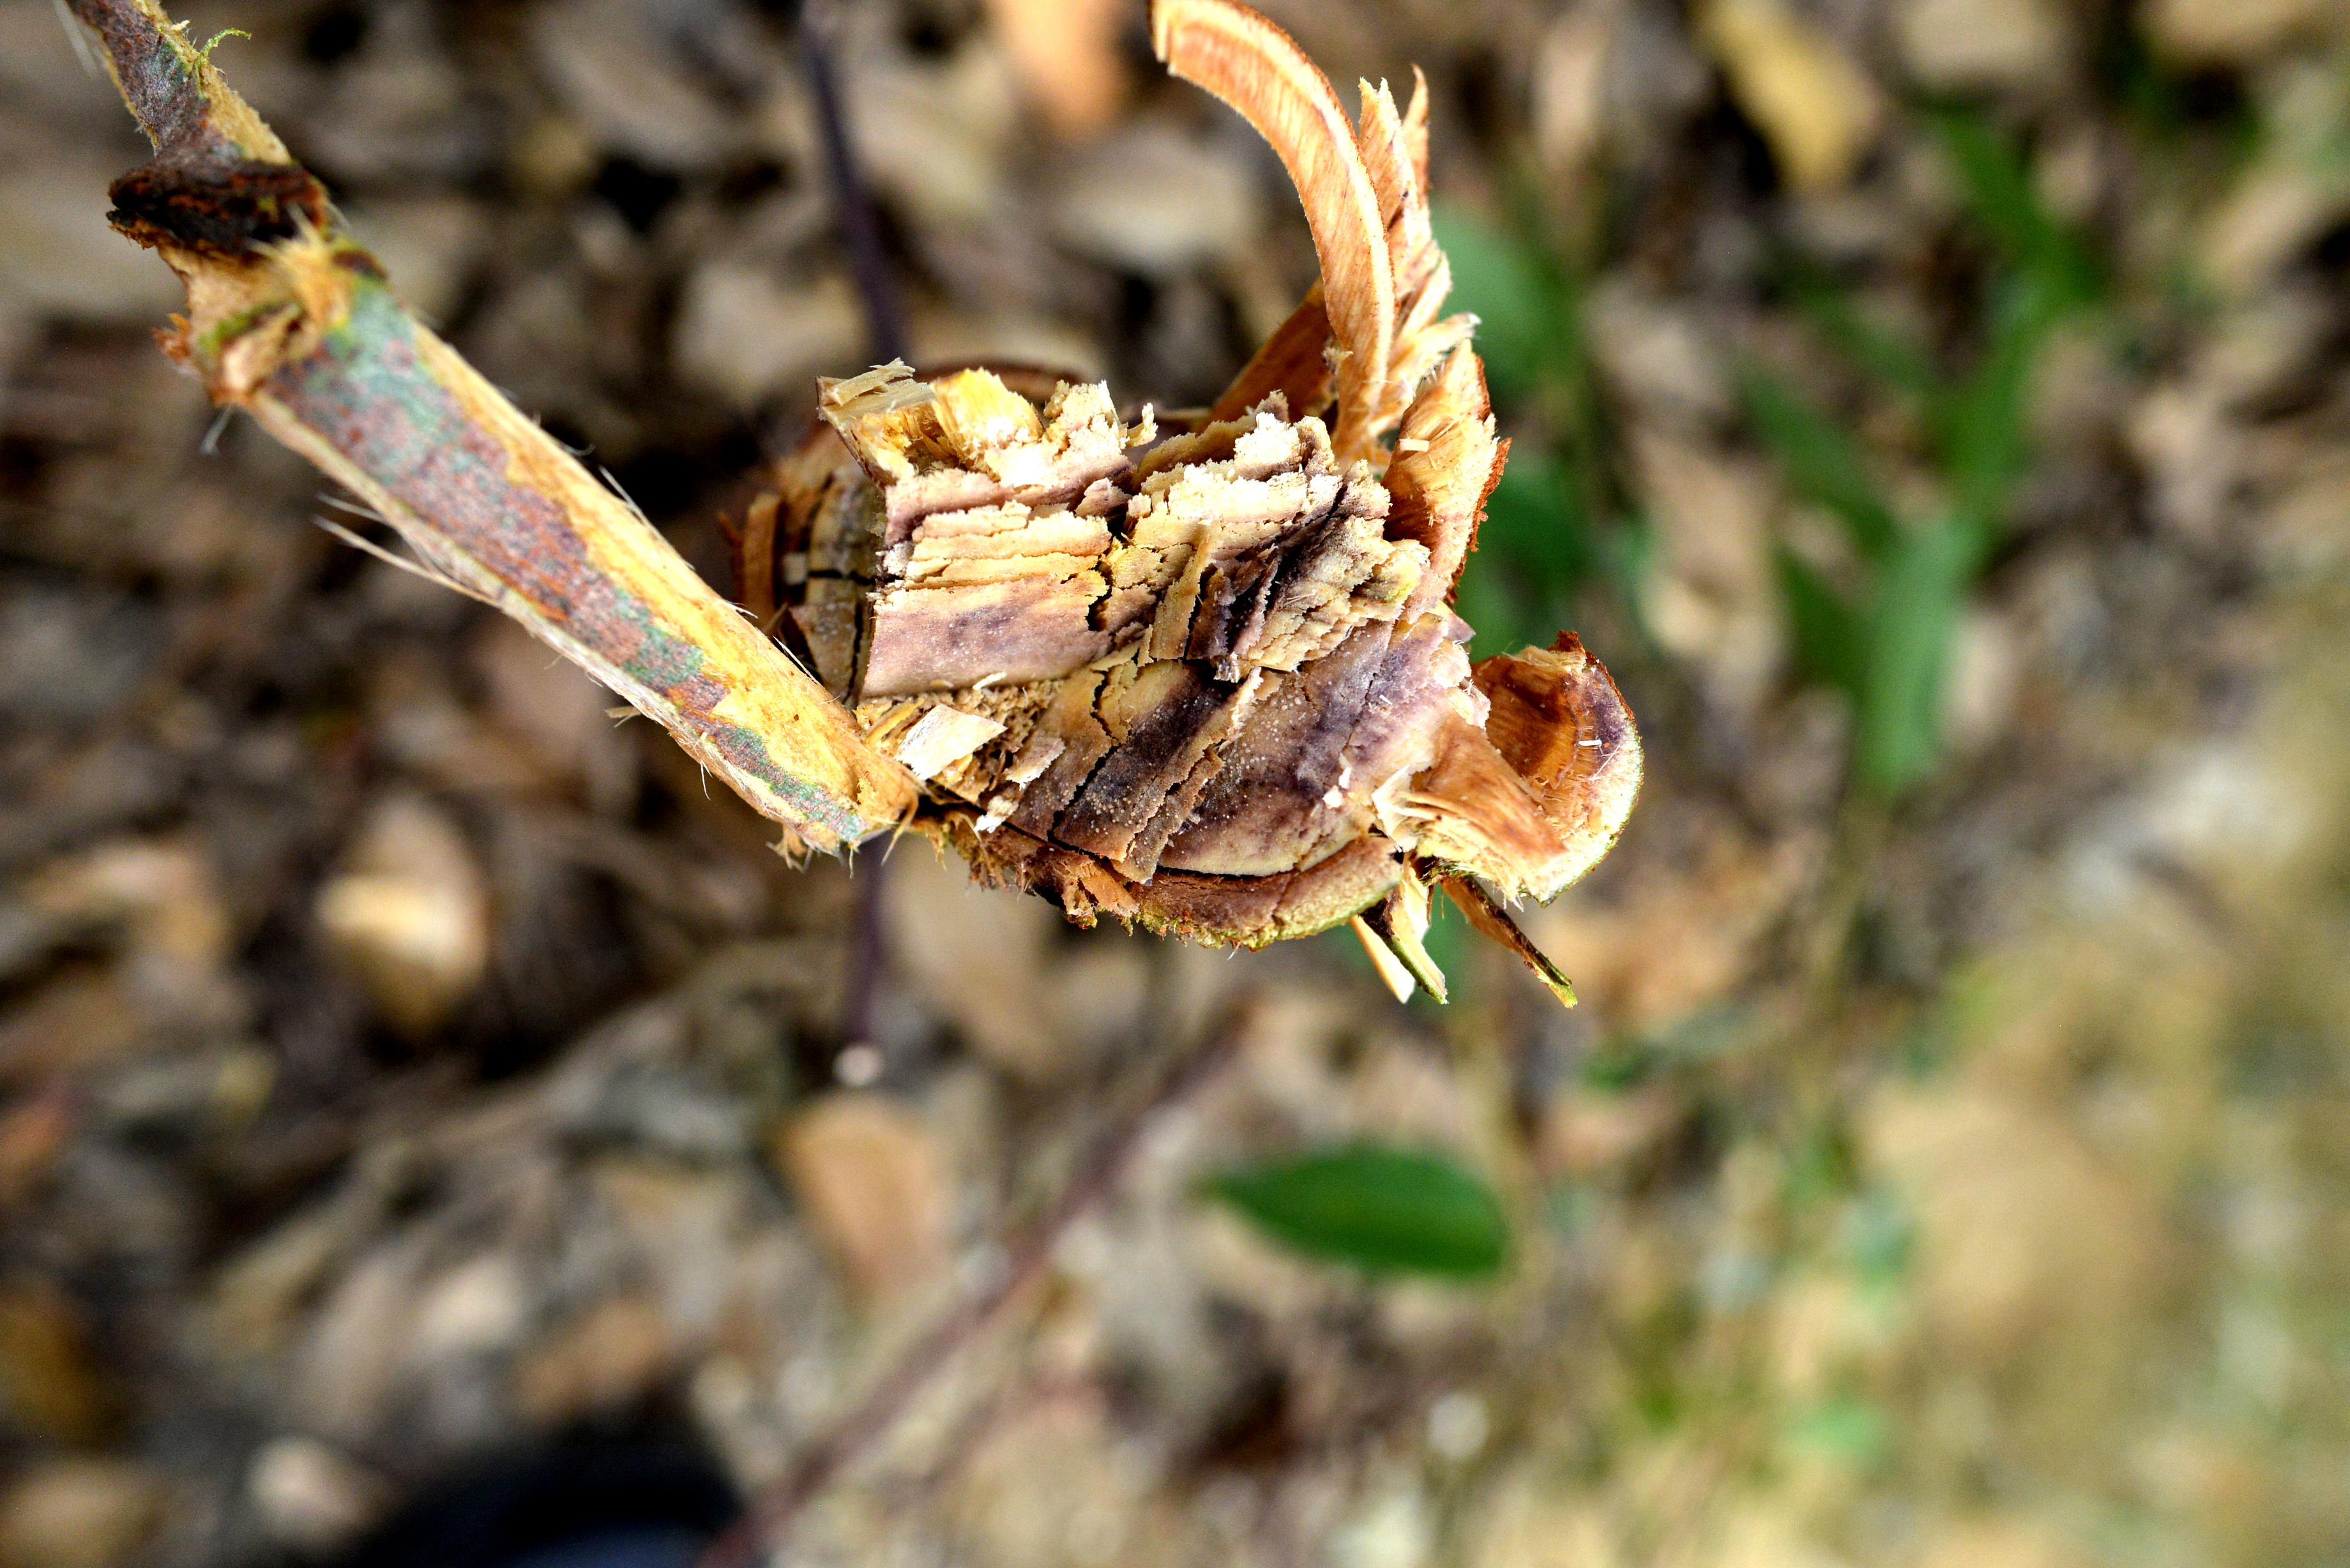Ralstonia: (1041, 679, 1323, 845)
